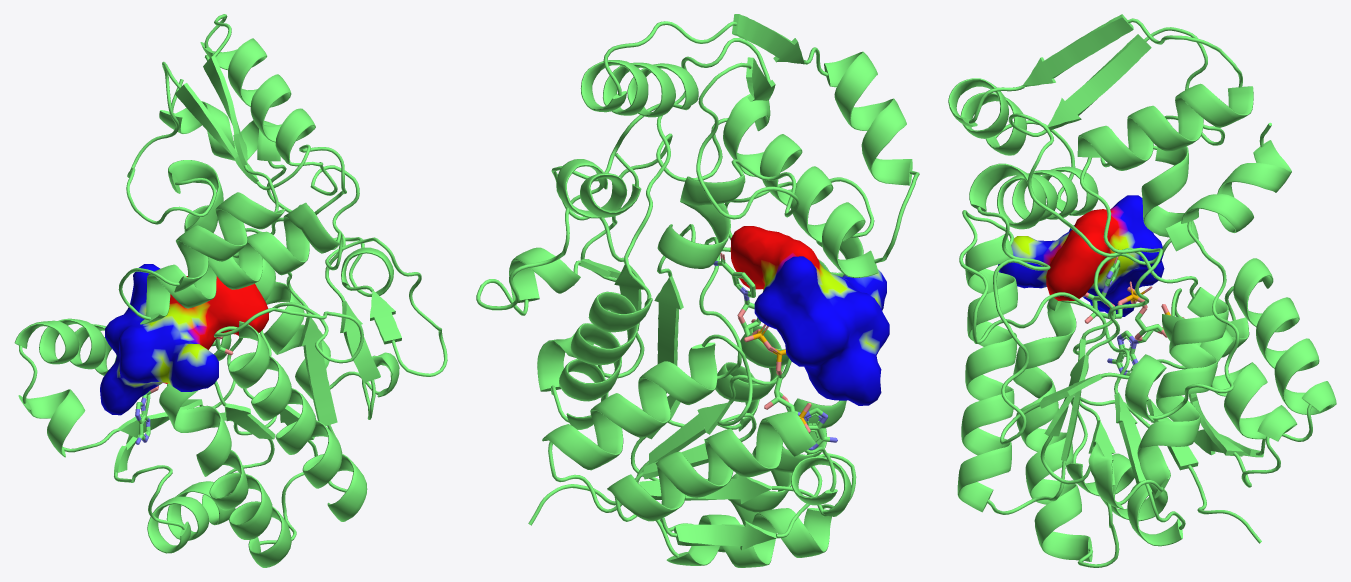
Rendered from cavity.gltf.
The picture shows the model from 3 angles, left to right: view 1: azimuth 30°, elevation 25°; view 2: azimuth 150°, elevation 25°; view 3: azimuth 270°, elevation 25°; orthographic projection. The views are drawn at different scales.
Visible parts, largest first — view 1: node-geom161, node-geom160, node-geom162, node-geom163; view 2: node-geom160, node-geom161, node-geom163, node-geom162; view 3: node-geom161, node-geom160, node-geom162, node-geom163.
Part boxes in pixels (box(x1,y1,x2,y2)): node-geom161: box(119, 14, 399, 521); node-geom160: box(14, 302, 363, 567); node-geom162: box(118, 79, 447, 376); node-geom163: box(100, 264, 268, 415); node-geom160: box(528, 177, 874, 567); node-geom161: box(537, 14, 915, 431); node-geom163: box(730, 226, 889, 405); node-geom162: box(476, 93, 919, 315); node-geom161: box(948, 14, 1253, 514); node-geom160: box(959, 210, 1336, 567); node-geom162: box(969, 120, 1291, 445); node-geom163: box(998, 195, 1164, 316).
Bounding box in the file's own units: 41.47 × 59.9 × 39.46.
